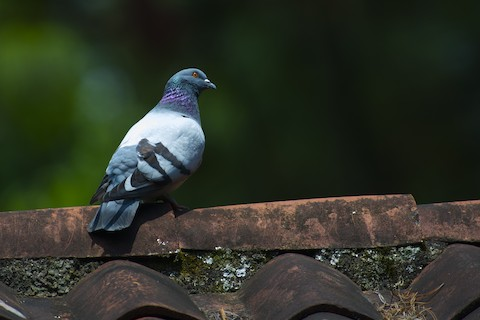pigeon: (84, 63, 220, 244)
